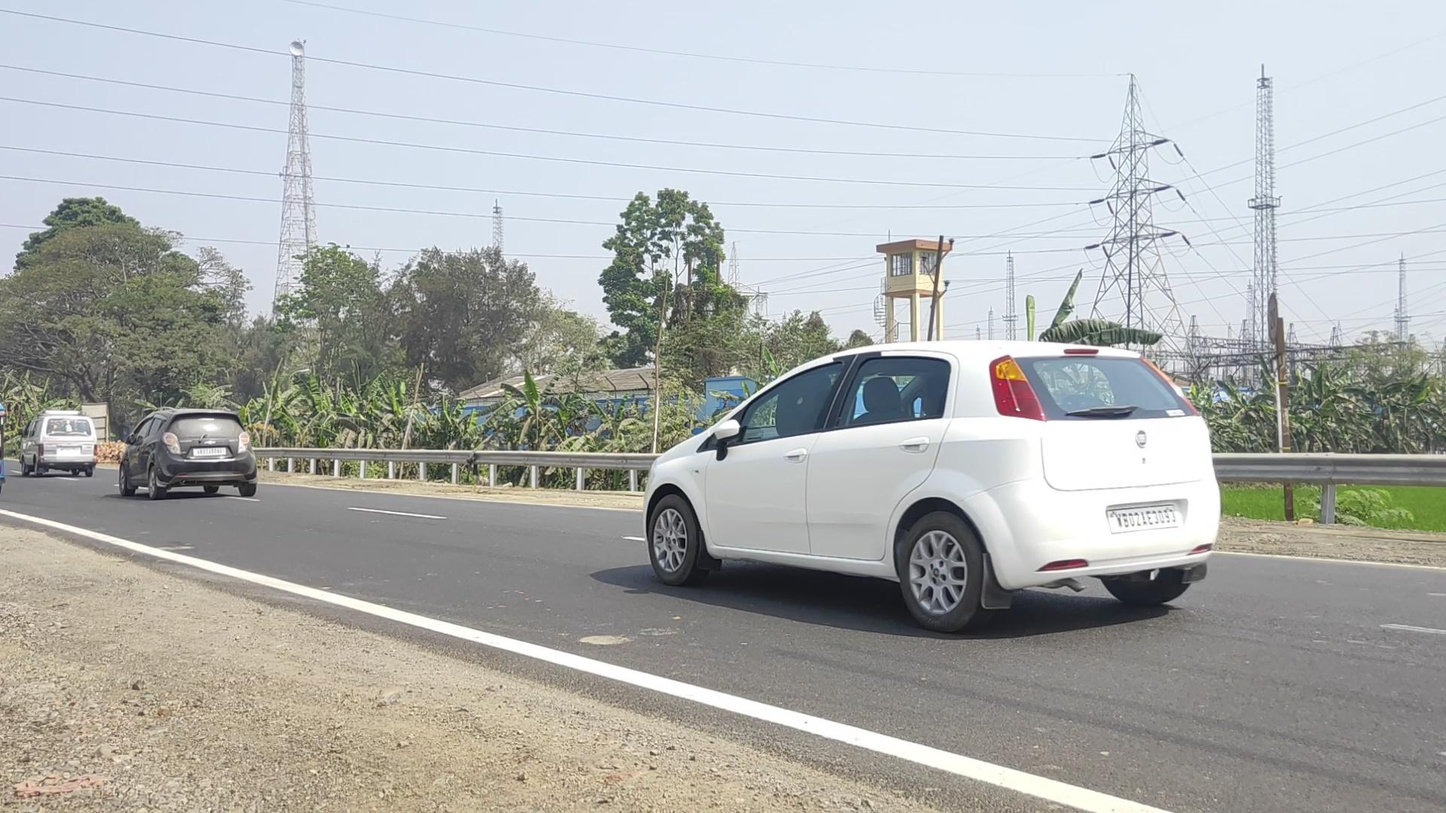car: (643, 340, 1221, 635), (118, 406, 258, 501)
van: (19, 410, 98, 478)
